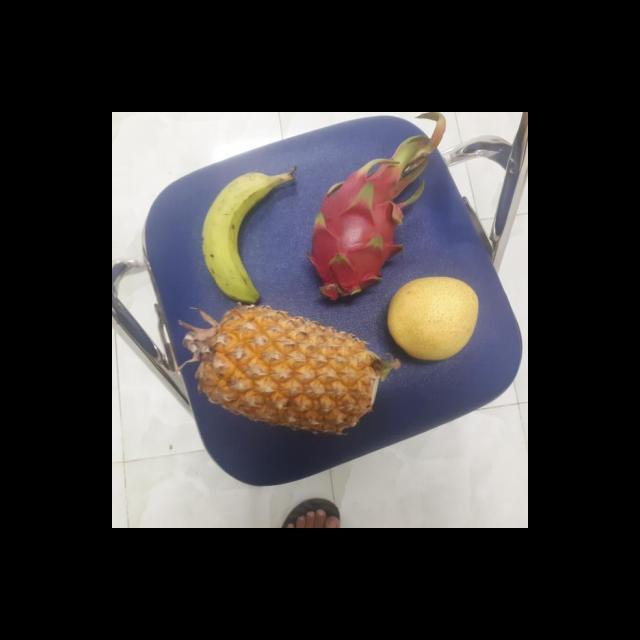banana: (199, 171, 291, 302)
pear: (381, 278, 480, 360)
pineapple: (180, 304, 390, 434)
pitaya: (304, 168, 412, 298)
